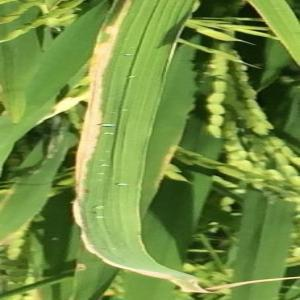2 BacterialBlight: (74, 1, 158, 247)
